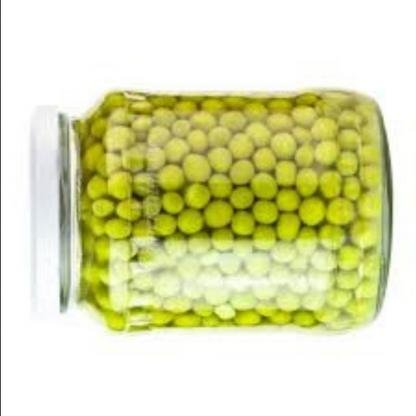peas: (86, 91, 386, 332)
